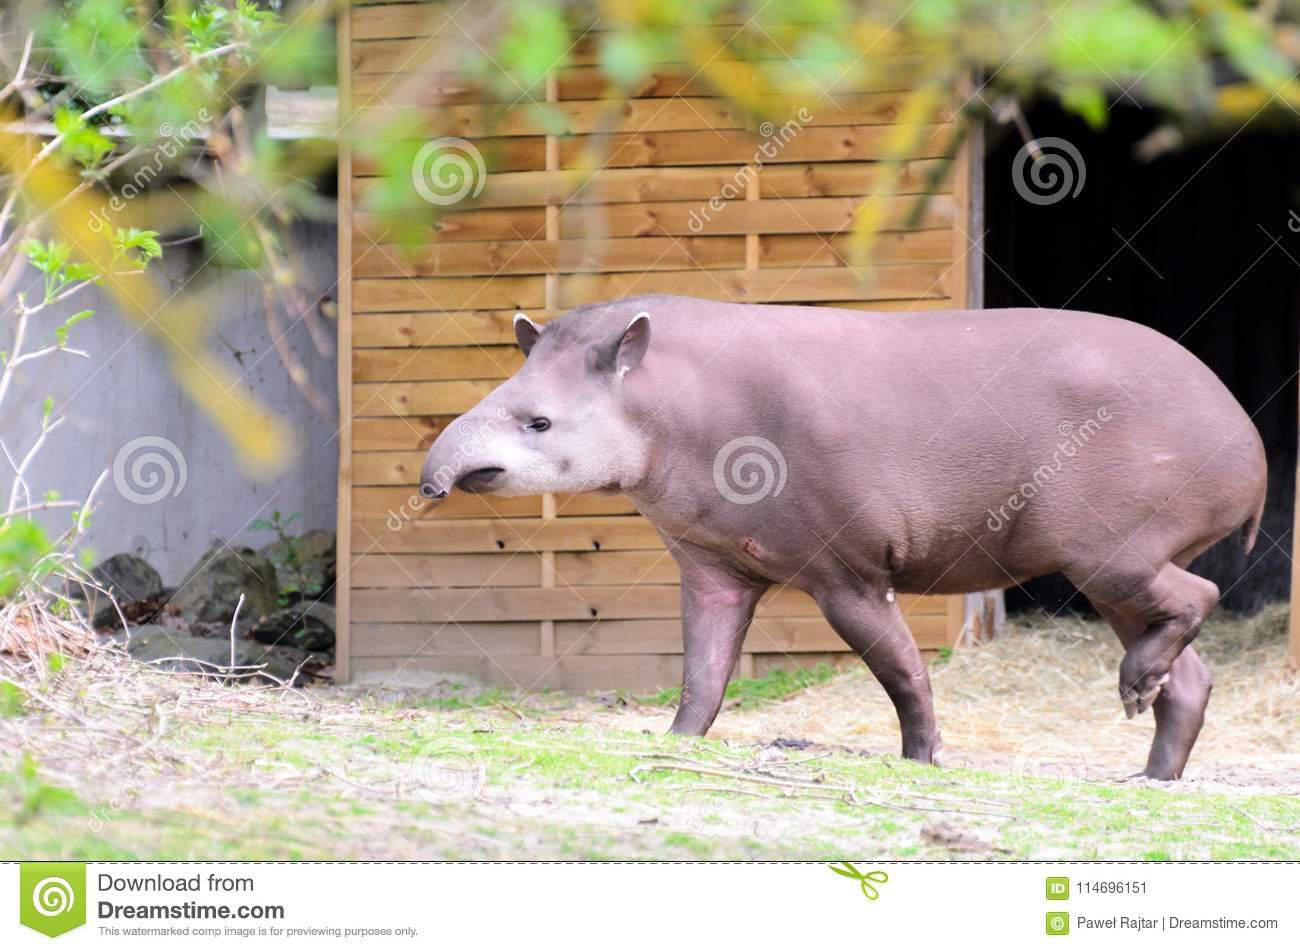Anta: (432, 299, 1268, 790)
